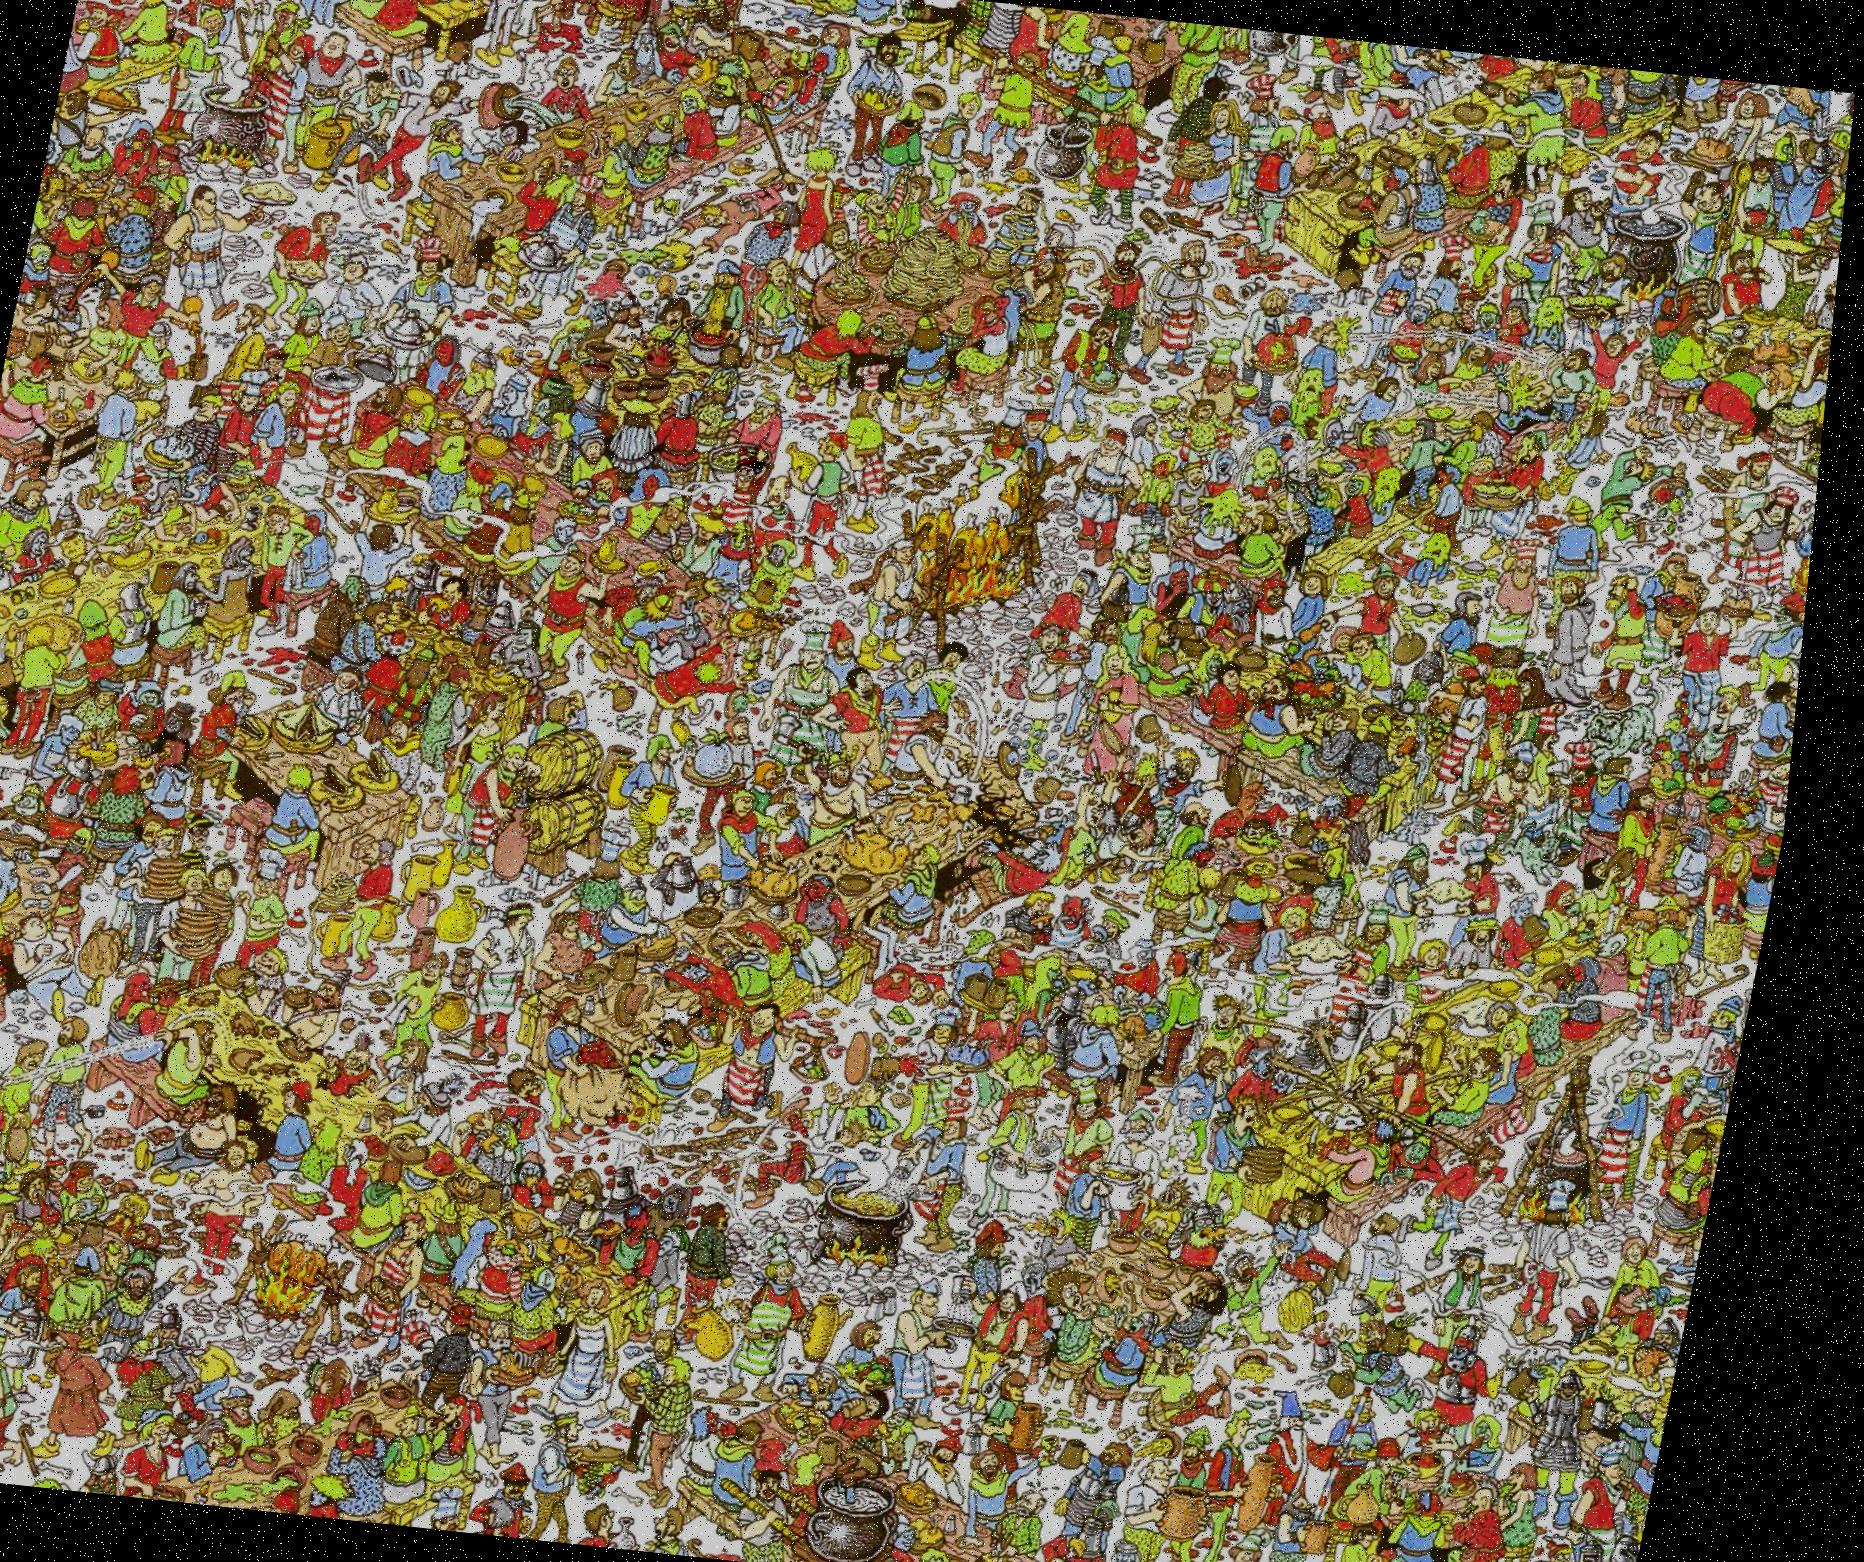waldo: (741, 446, 776, 490)
